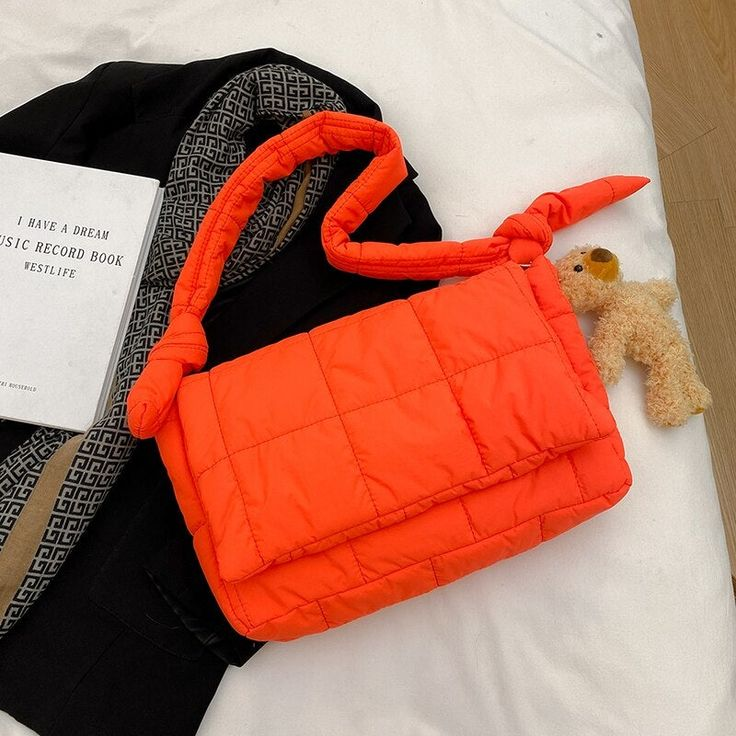nylon: (129, 111, 651, 641)
